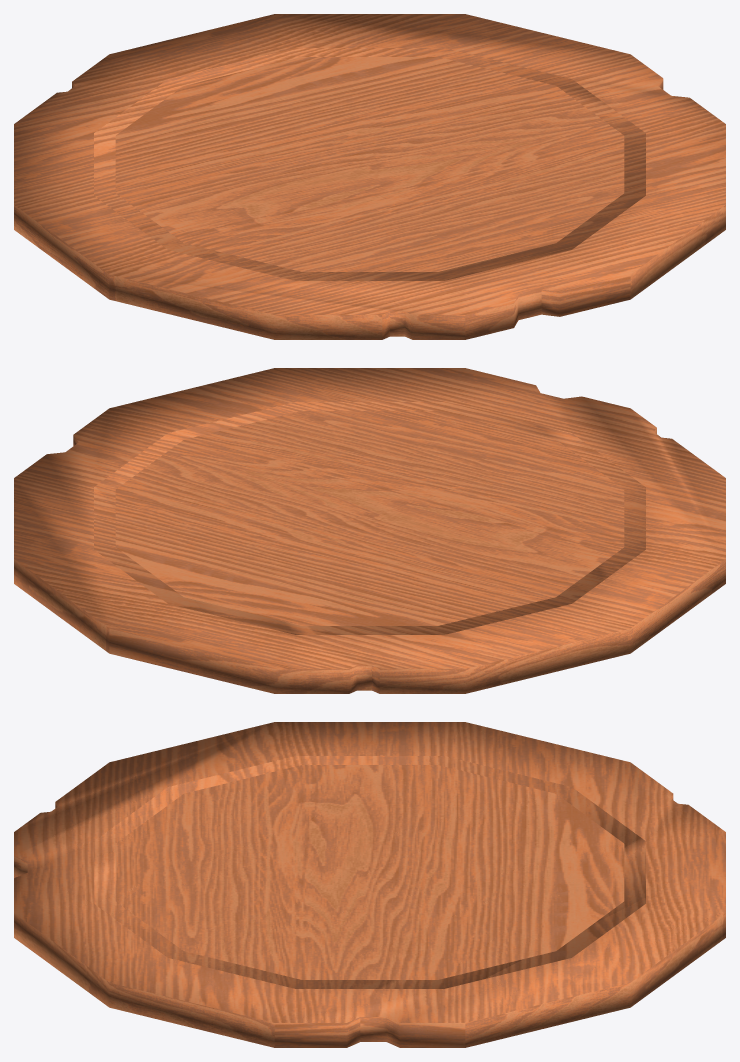
File: round_cuttingboard.glb
3 renders of one model, top to bottom at view 1: azimuth 30°, elevation 25°; view 2: azimuth 150°, elevation 25°; view 3: azimuth 270°, elevation 25°, orthographic.
Visible parts, largest first — view 1: blat#$conf|0|PR41RK#$top|1.027_32; view 2: blat#$conf|0|PR41RK#$top|1.027_32; view 3: blat#$conf|0|PR41RK#$top|1.027_32.
Boxes of the visible parts, x1,y1,x2,y2 form: blat#$conf|0|PR41RK#$top|1.027_32: [14, 14, 725, 339]; blat#$conf|0|PR41RK#$top|1.027_32: [14, 368, 725, 693]; blat#$conf|0|PR41RK#$top|1.027_32: [14, 722, 725, 1047].
Size of the model in its own units: 0.7727 by 0.03 by 0.7727.
Materials: 1 (1 with a texture image).
